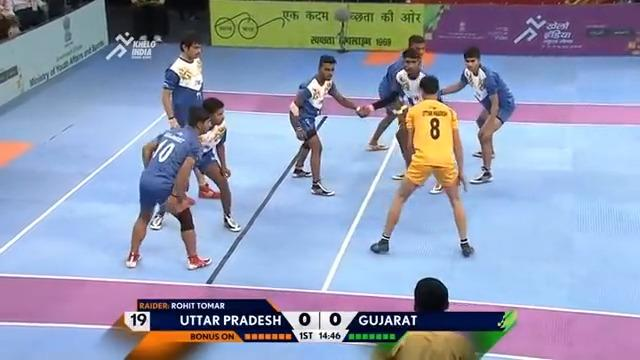Player: (124, 105, 214, 270), (148, 97, 241, 232), (363, 35, 443, 185), (288, 54, 369, 196), (434, 46, 515, 185), (385, 276, 476, 359)
Raider: (369, 74, 474, 257)
referee: (130, 0, 169, 43)
